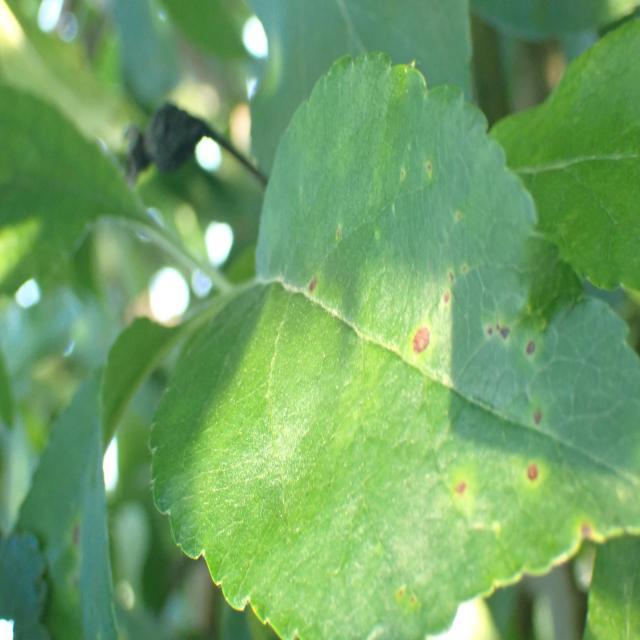frog-eye-leaf-spot: (148, 49, 640, 640)
